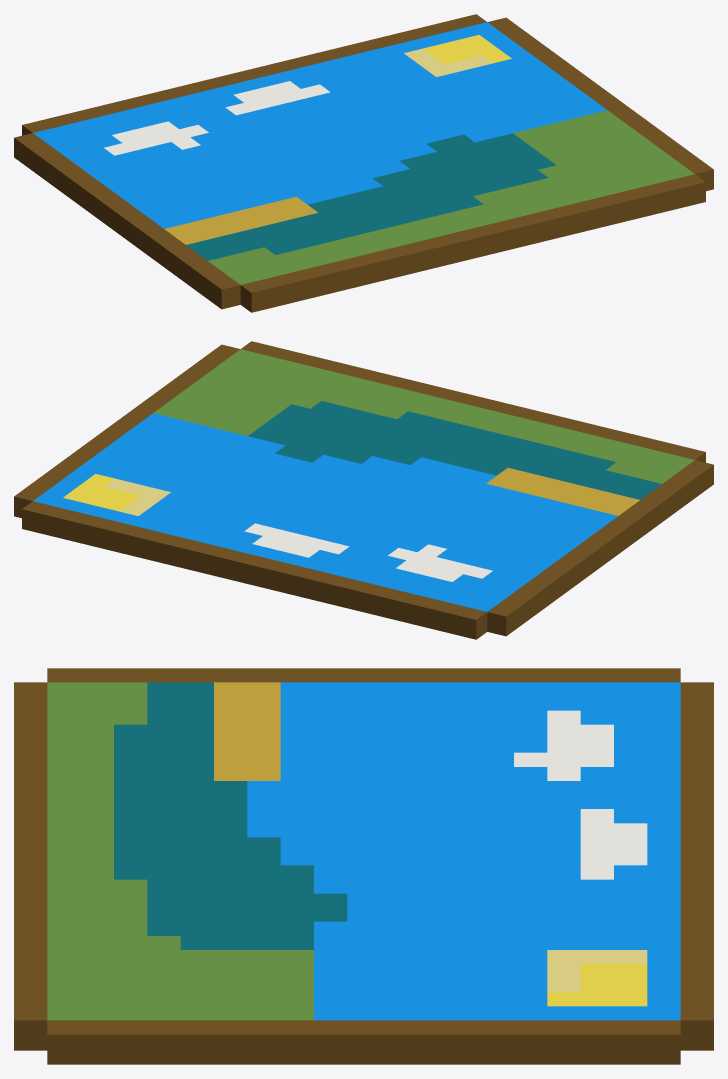
The model's file is grass painting.gltf.
3 renders of one model, top to bottom at view 1: azimuth 30°, elevation 25°; view 2: azimuth 150°, elevation 25°; view 3: azimuth 270°, elevation 25°, orthographic. The views are drawn at different scales.
Visible parts, largest first — view 1: Layer.1; view 2: Layer.1; view 3: Layer.1.
Part boxes in pixels (x1=…): Layer.1: x1=14, y1=14, x2=713, y2=312; Layer.1: x1=14, y1=341, x2=713, y2=639; Layer.1: x1=14, y1=668, x2=713, y2=1064.
Bounding box in the file's own units: 26 × 1 × 21.
Materials: 1 (1 with a texture image).
